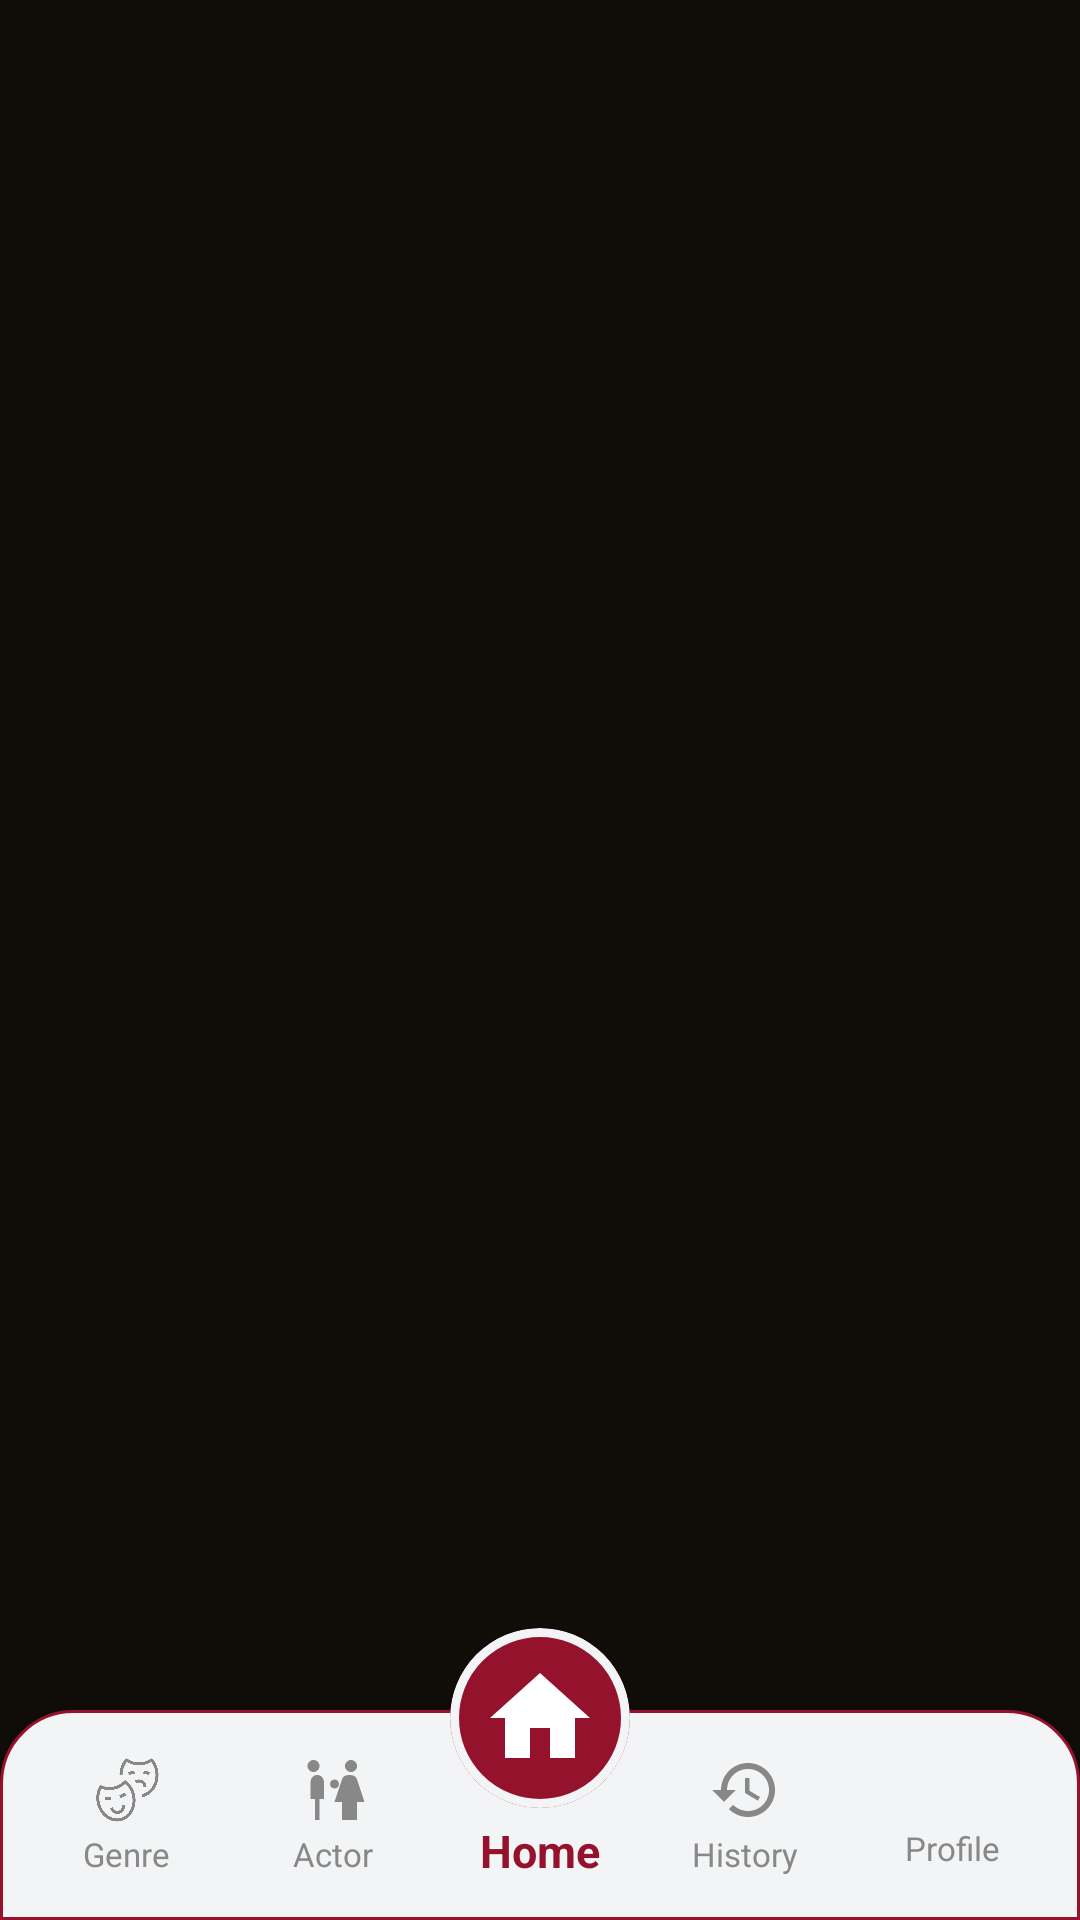

Where to tap for icons on this 1080x1920 app screen, as [x,y]:
cinema: [127,1790]
